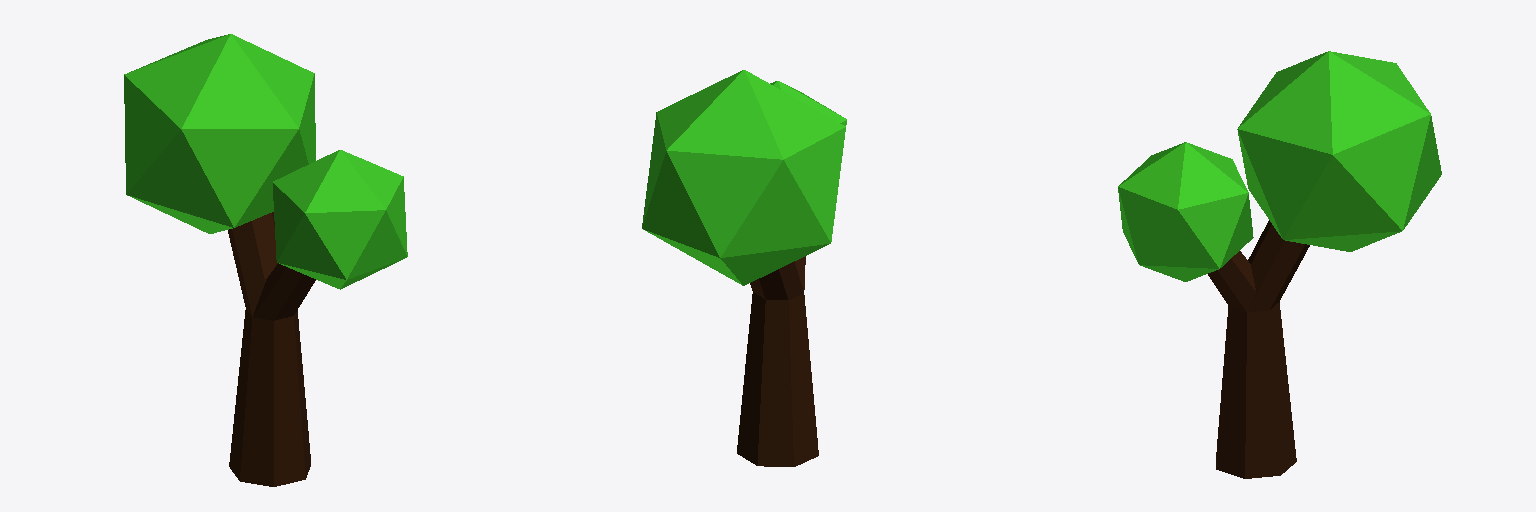
The model's file is tree2.obj.
3 renders of one model, left to right at view 1: azimuth 30°, elevation 25°; view 2: azimuth 150°, elevation 25°; view 3: azimuth 270°, elevation 25°, orthographic.
Parts seen in each view (by area): view 1: tree2_Cylinder.017; view 2: tree2_Cylinder.017; view 3: tree2_Cylinder.017.
Boxes of the visible parts, x1=… form: tree2_Cylinder.017: x1=124, y1=34, x2=407, y2=486; tree2_Cylinder.017: x1=642, y1=70, x2=846, y2=466; tree2_Cylinder.017: x1=1118, y1=51, x2=1441, y2=478.
Size of the model in its own units: 2.21 by 4.48 by 3.22.